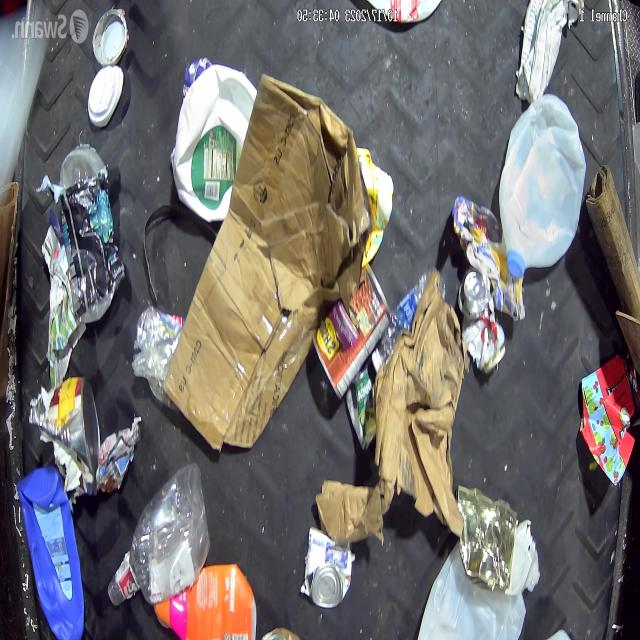can: (312, 264, 391, 399), (33, 377, 101, 475), (457, 484, 517, 590), (457, 268, 505, 374), (309, 547, 348, 606)
milk_jug: (498, 96, 583, 270), (172, 65, 256, 222), (416, 542, 526, 640)
non_white_jug: (17, 464, 84, 640)
